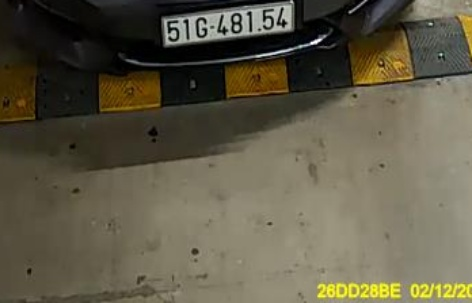plate: (159, 5, 300, 48)
